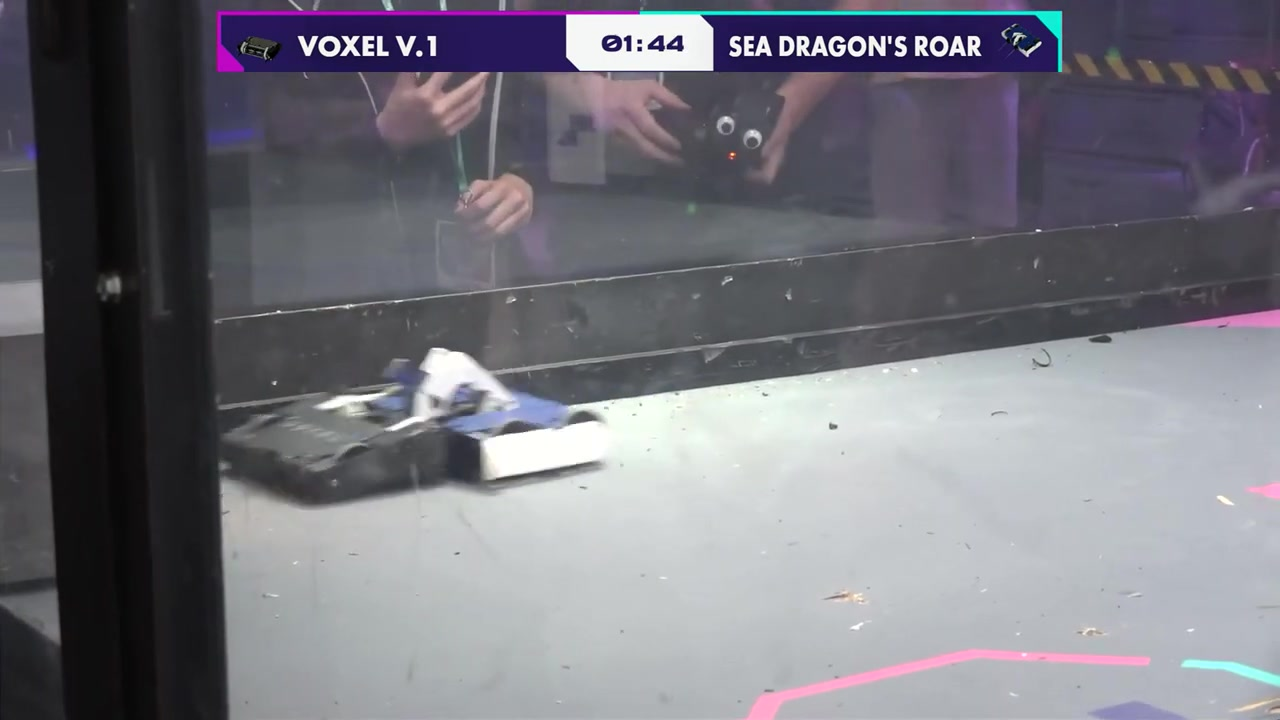combatbot: (222, 351, 437, 507), (402, 349, 612, 485)
housebot: (0, 356, 54, 589)
